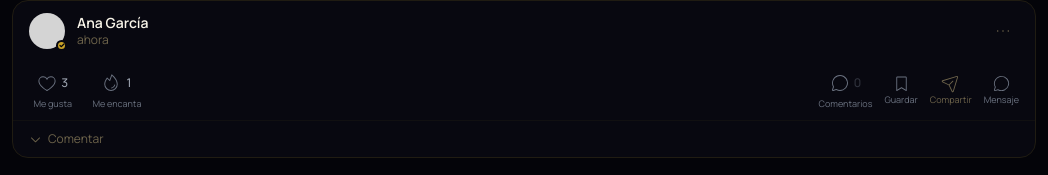
Test: PostCard — optimistic like (BUG: delay en me gusta) › actualiza el contador de ❤️ inmediatamente al hacer click, sin esperar la API
This screenshot has width=1048, height=175.
Expected: the text "3" is shown, x1=61 y1=75 x2=68 y2=91
# Click en "Me gusta"
Click the button labelled "3 Me gusta" at point(53, 88), box x1=29 y1=69 x2=76 y2=108
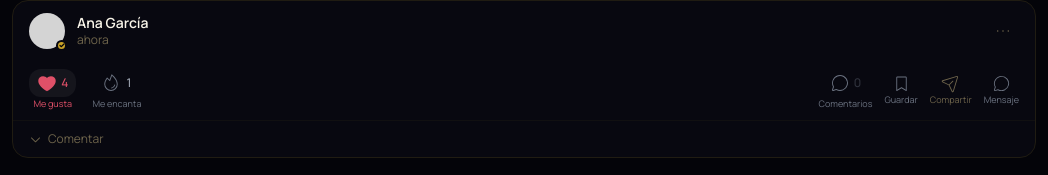
Expected: the text "4" is shown, x1=61 y1=75 x2=68 y2=91
